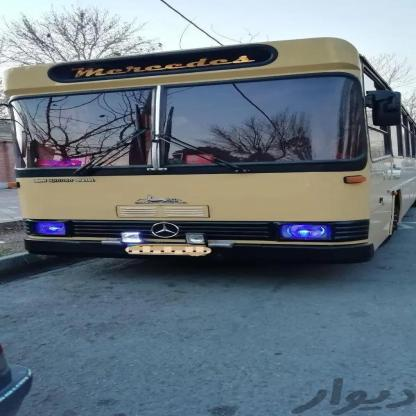Bus: (0, 47, 416, 276)
